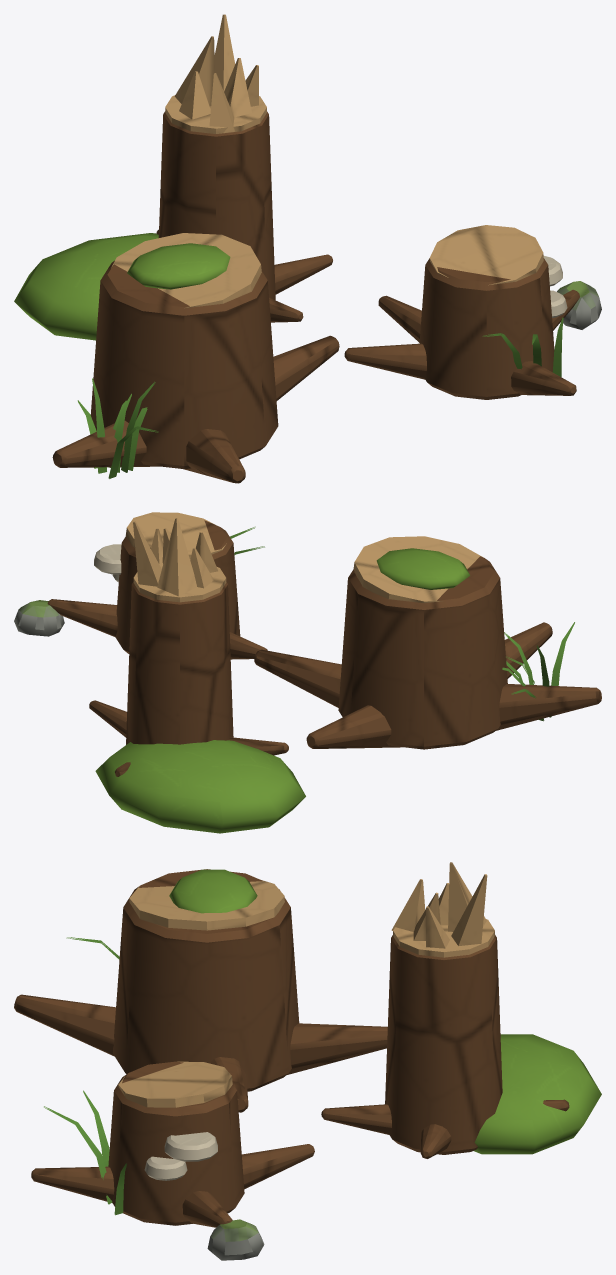
Rendered from stump_cluster.glb.
The picture shows the model from 3 angles, top to bottom: view 1: azimuth 30°, elevation 25°; view 2: azimuth 150°, elevation 25°; view 3: azimuth 270°, elevation 25°; orthographic projection. The views are drawn at different scales.
Visible parts, largest first — view 1: stump_cluster; view 2: stump_cluster; view 3: stump_cluster.
Part boxes in pixels (x1=…): stump_cluster: x1=14, y1=14, x2=601, y2=483; stump_cluster: x1=14, y1=512, x2=601, y2=833; stump_cluster: x1=14, y1=862, x2=601, y2=1260.
Bounding box in the file's own units: 2.17 × 1.05 × 1.86.
Materials: 6 (6 with a texture image).
